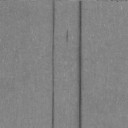surface scratch: (51, 0, 55, 128), (78, 0, 82, 128)
